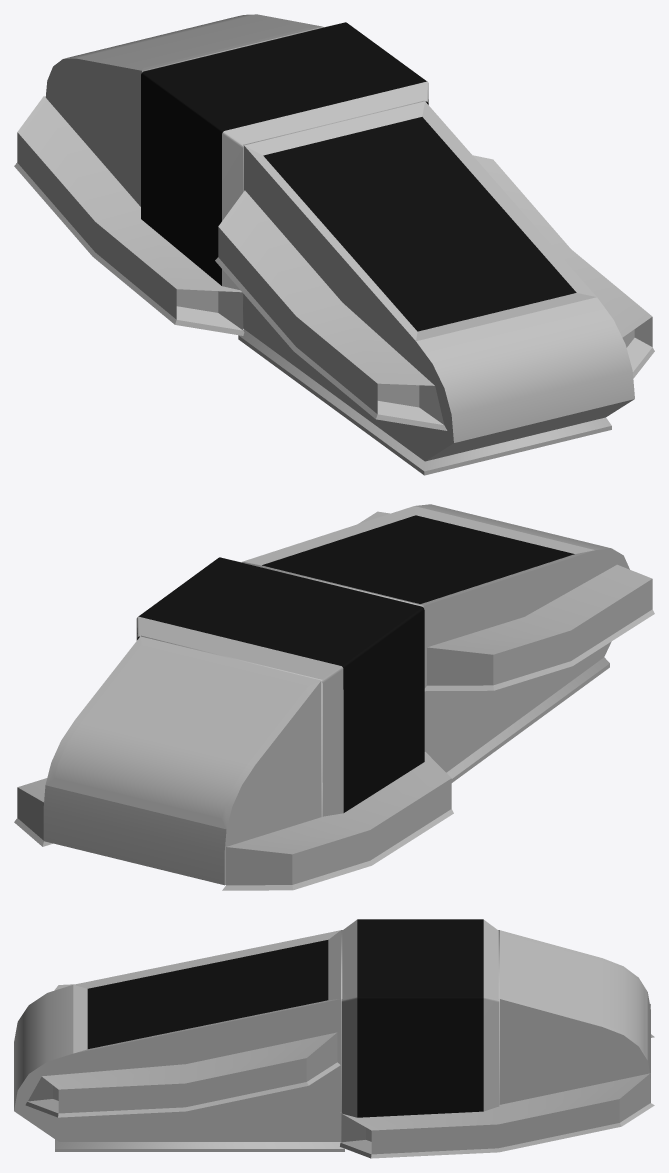
Rendered from KS_SM_Bcar.fbx.
3 renders of one model, top to bottom at view 1: azimuth 30°, elevation 25°; view 2: azimuth 150°, elevation 25°; view 3: azimuth 270°, elevation 25°, orthographic. The views are drawn at different scales.
Parts seen in each view (by area): view 1: KS_SM_Bcar (×3); view 2: KS_SM_Bcar (×3); view 3: KS_SM_Bcar (×3).
Part boxes in pixels (<box>): KS_SM_Bcar (×3): <box>14,14,654,475</box>; KS_SM_Bcar (×3): <box>14,504,654,890</box>; KS_SM_Bcar (×3): <box>14,919,654,1158</box>.
Size of the model in its own units: 530 by 383 by 1353.
